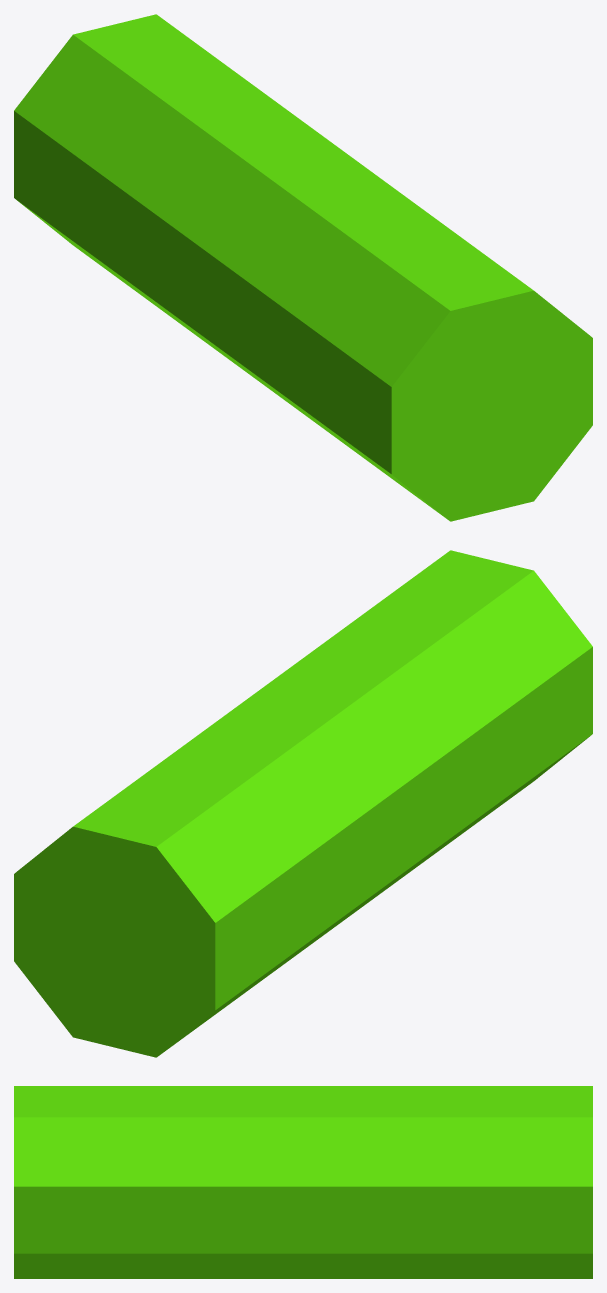
The model's file is Ground.fbx.
The picture shows the model from 3 angles, top to bottom: view 1: azimuth 30°, elevation 25°; view 2: azimuth 150°, elevation 25°; view 3: azimuth 270°, elevation 25°; orthographic projection. The views are drawn at different scales.
Parts seen in each view (by area): view 1: Cylinder; view 2: Cylinder; view 3: Cylinder.
Boxes of the visible parts, <box> form: Cylinder: <box>14,14,592,521</box>; Cylinder: <box>14,550,592,1057</box>; Cylinder: <box>14,1086,592,1278</box>.
Size of the model in its own units: 370 by 1200 by 370.
